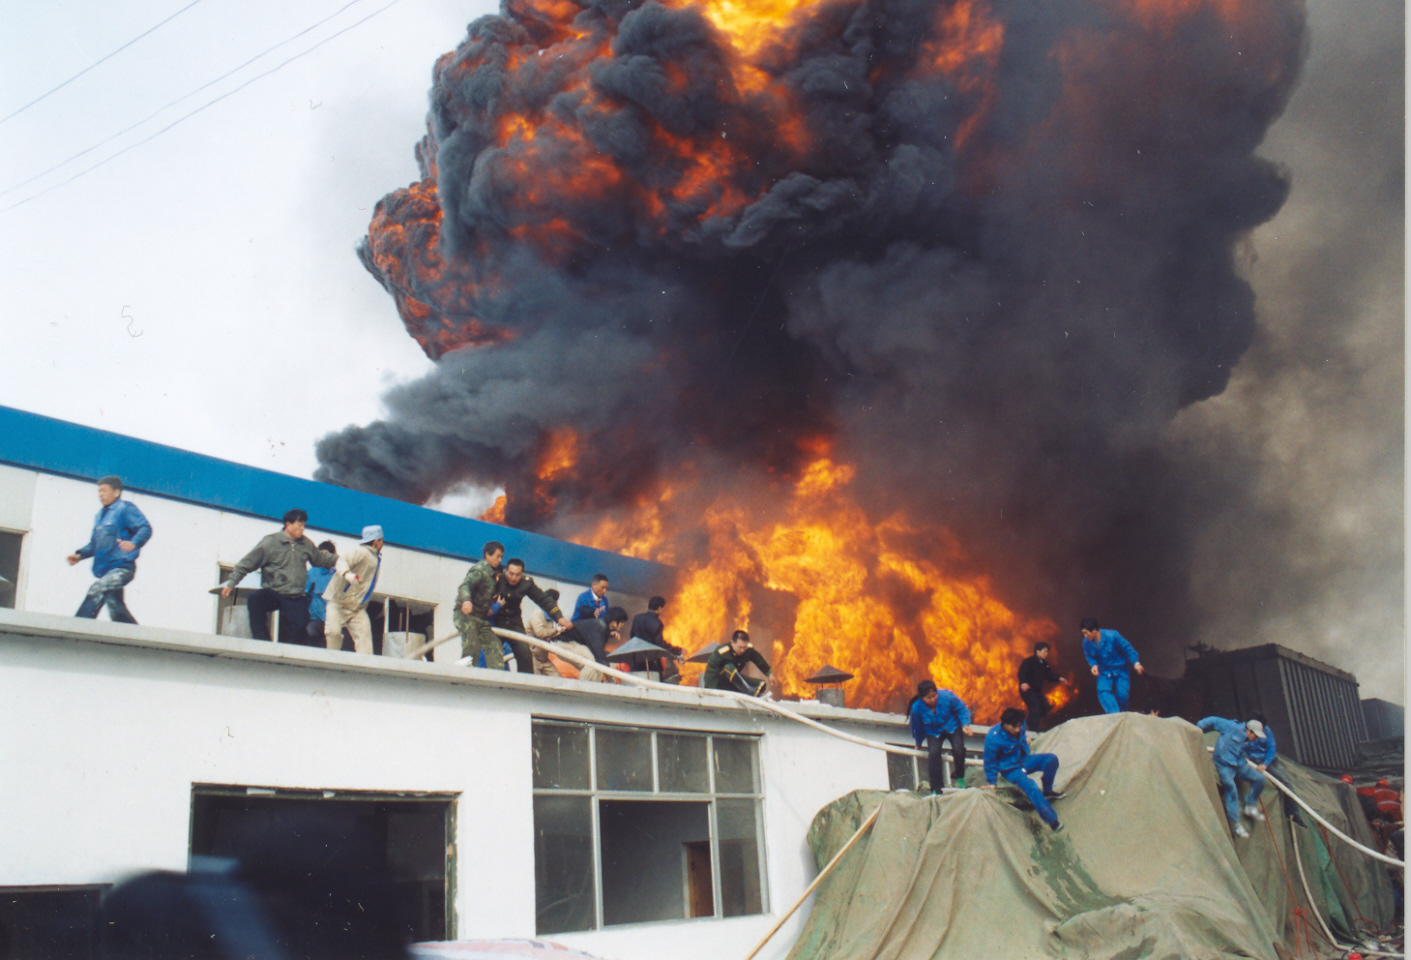fire: (412, 12, 1121, 720)
